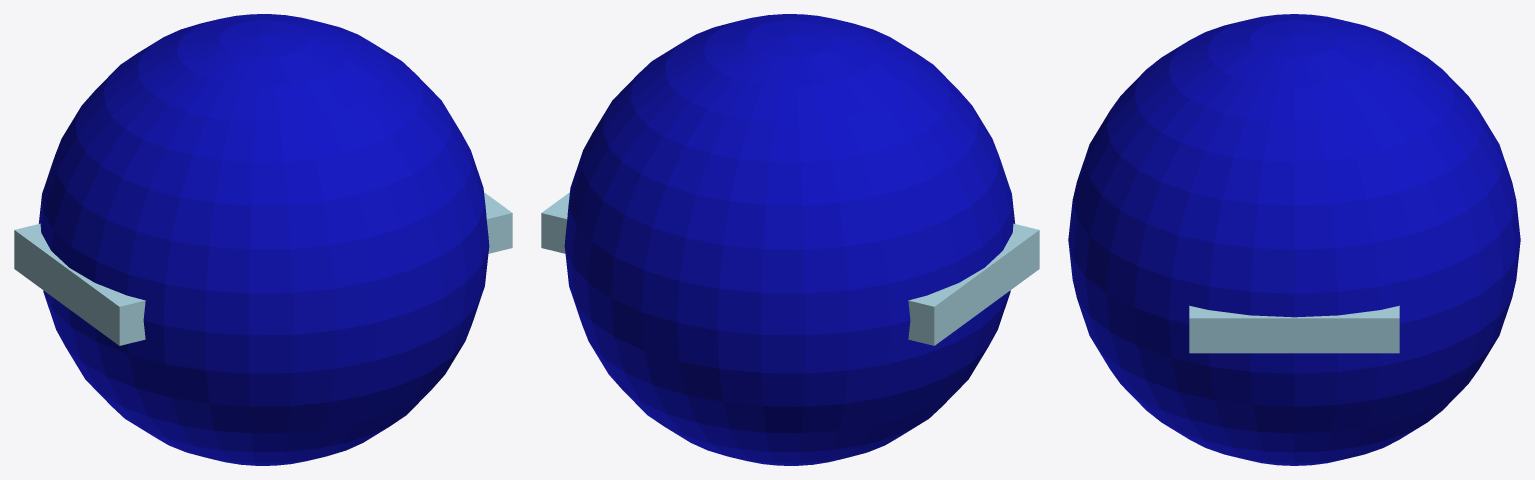
File: Final Electron 1.gltf
The picture shows the model from 3 angles, left to right: view 1: azimuth 30°, elevation 25°; view 2: azimuth 150°, elevation 25°; view 3: azimuth 270°, elevation 25°; orthographic projection.
Visible parts, largest first — view 1: Sphere, Cube.001, Cube; view 2: Sphere, Cube.001, Cube; view 3: Sphere, Cube.
Boxes of the visible parts, bbox=[...] form: Sphere: bbox=[38, 14, 489, 465]; Cube.001: bbox=[14, 223, 145, 345]; Cube: bbox=[484, 192, 512, 253]; Sphere: bbox=[564, 14, 1015, 465]; Cube.001: bbox=[908, 223, 1039, 345]; Cube: bbox=[541, 192, 569, 253]; Sphere: bbox=[1068, 14, 1520, 465]; Cube: bbox=[1189, 305, 1399, 353].
Size of the model in its own units: 2.01 by 2 by 2.
